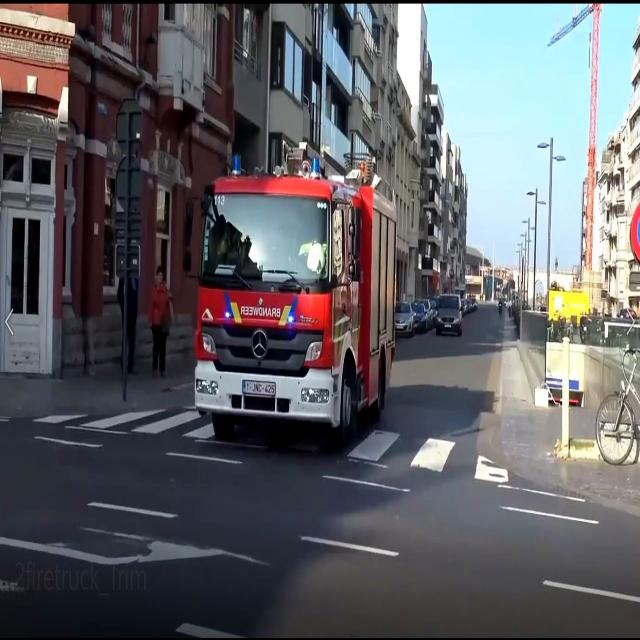emergency: (186, 130, 402, 447)
